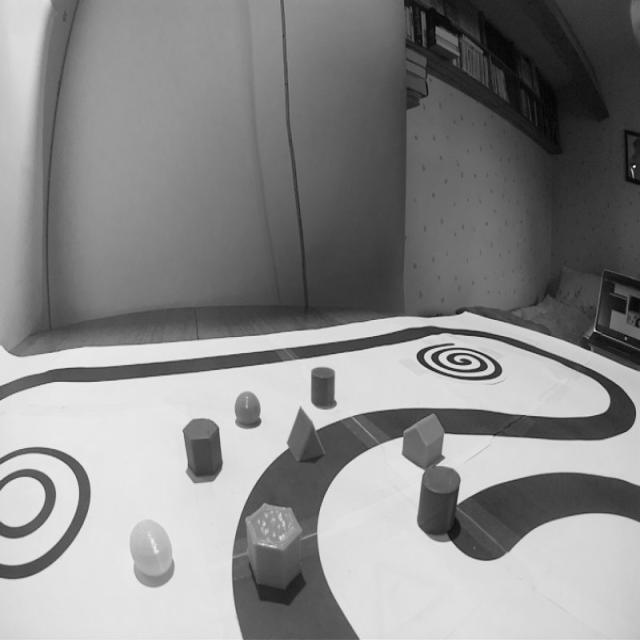ball: (129, 518, 173, 578), (234, 391, 260, 426)
cockade: (0, 442, 93, 576)
cylinder: (415, 465, 462, 539), (310, 366, 336, 408)
hexagon: (182, 419, 222, 477)
home: (402, 413, 446, 469)
laneRightTurn: (230, 415, 395, 640)
nest: (416, 342, 504, 381)
triangle: (286, 406, 326, 462)
